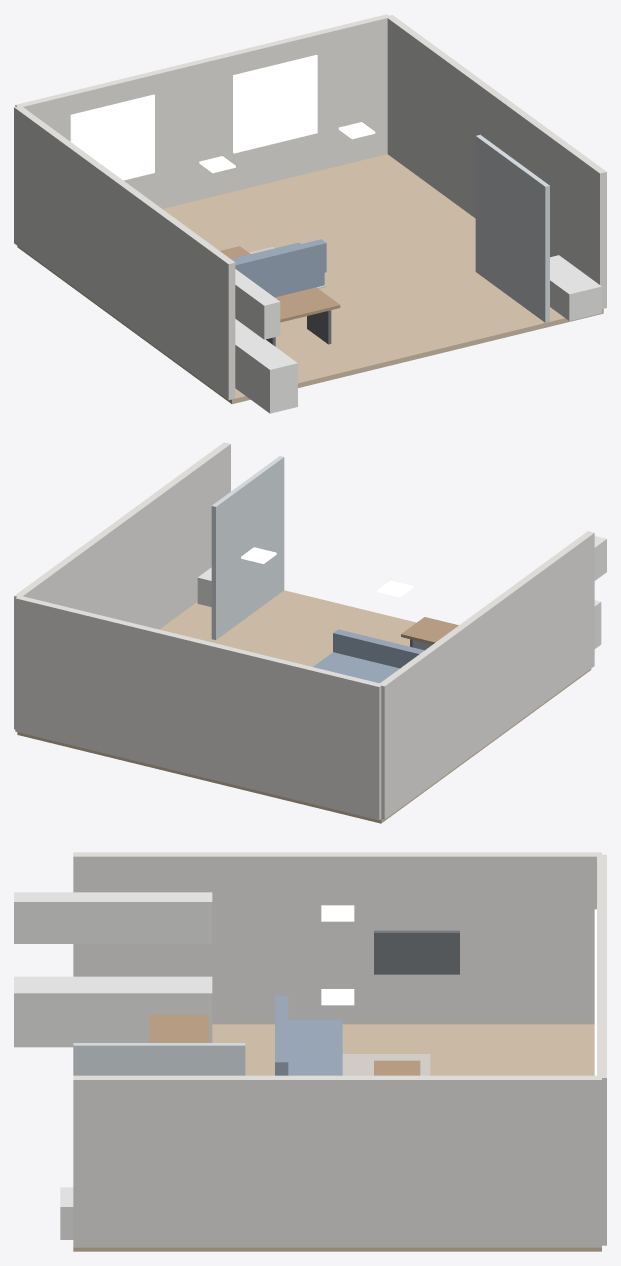
File: interior-1.glb
3 views of the same model, one above another, from view 1: azimuth 30°, elevation 25°; view 2: azimuth 150°, elevation 25°; view 3: azimuth 270°, elevation 25° (orthographic). The views are drawn at different scales.
Size of the model in its own units: 8.15 by 2.9 by 8.97.
